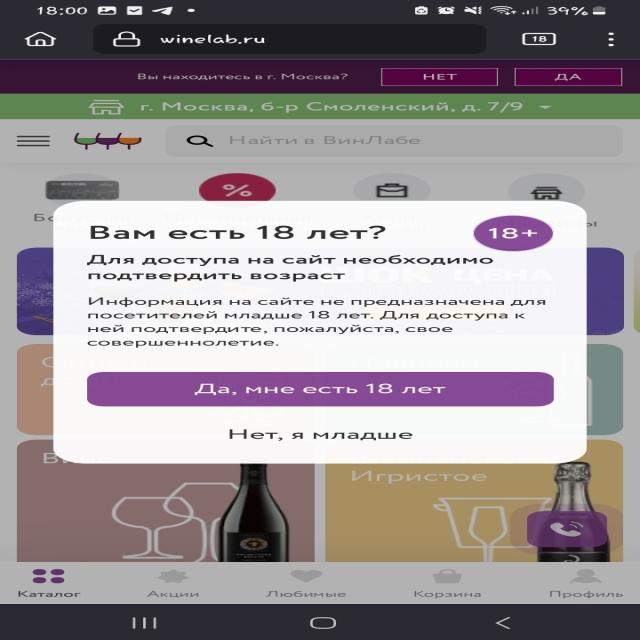button: (89, 372, 553, 408), (200, 420, 449, 452), (378, 69, 500, 87), (515, 69, 629, 88)
site: (53, 201, 589, 463), (2, 61, 640, 94)
